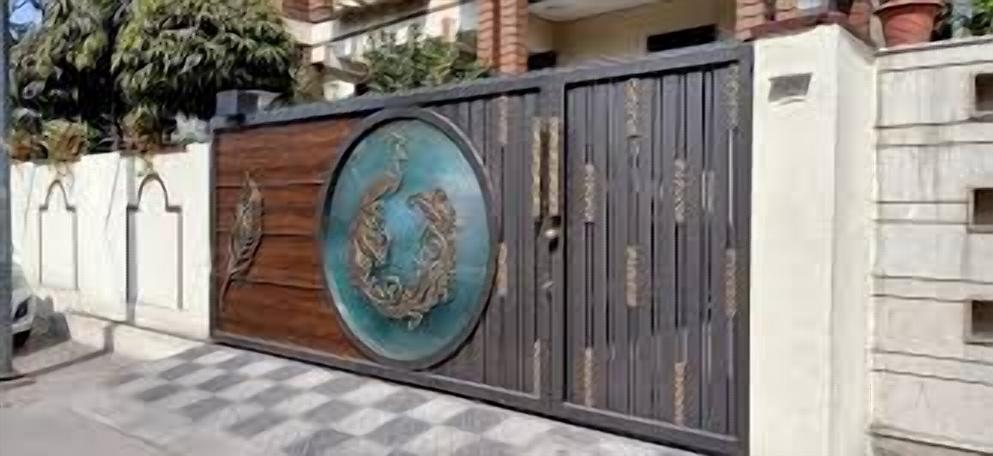Gate: (207, 38, 753, 456)
